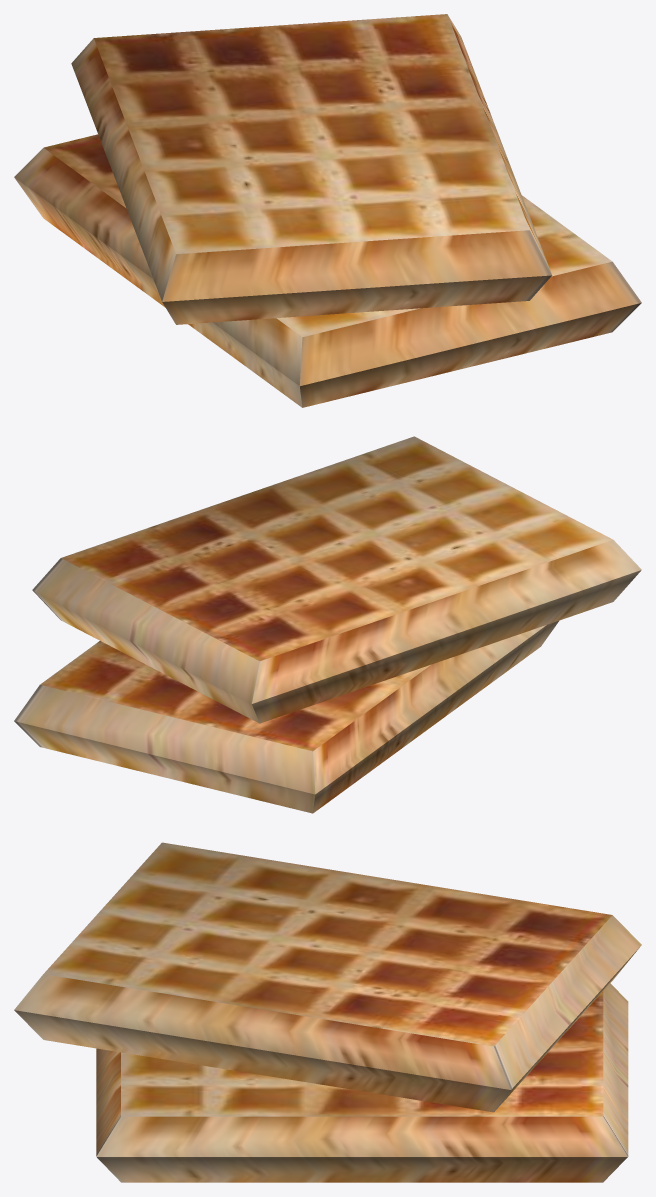
The model's file is Waffle.fbx.
3 renders of one model, top to bottom at view 1: azimuth 30°, elevation 25°; view 2: azimuth 150°, elevation 25°; view 3: azimuth 270°, elevation 25°, orthographic. The views are drawn at different scales.
Parts seen in each view (by area): view 1: Waffle; view 2: Waffle; view 3: Waffle.
Part boxes in pixels (left/top/right/bottom): Waffle: left=14, top=14, right=641, bottom=407; Waffle: left=14, top=436, right=641, bottom=813; Waffle: left=14, top=842, right=641, bottom=1182.
Bounding box in the file's own units: 23.87 × 7.5 × 28.13.
